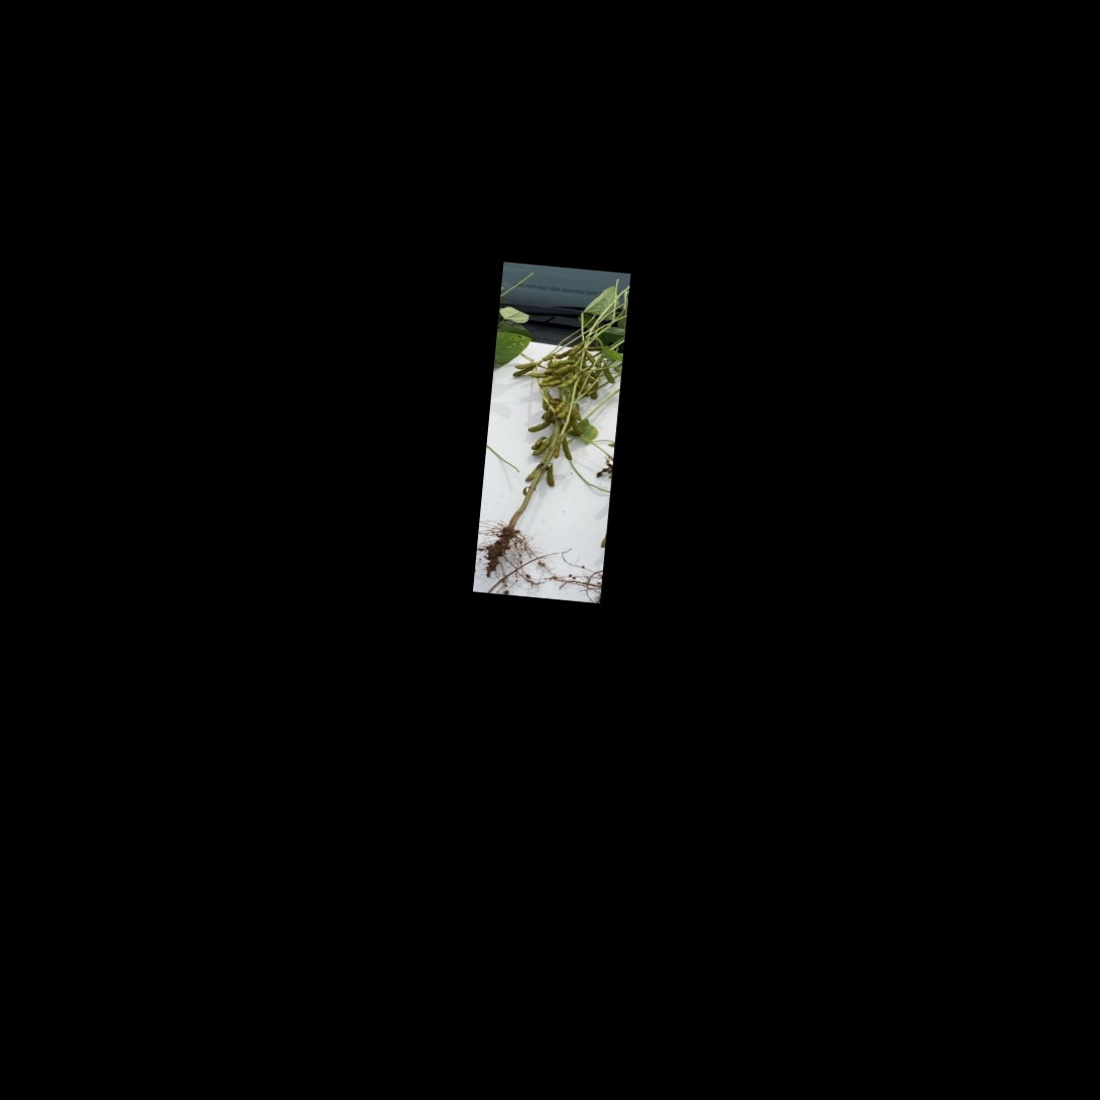pod: (522, 416, 555, 436), (530, 432, 553, 460), (555, 368, 581, 392), (509, 362, 539, 381), (597, 361, 618, 386), (566, 336, 586, 361), (559, 436, 576, 464), (567, 415, 585, 437), (544, 462, 558, 490), (512, 359, 539, 373), (550, 434, 564, 459)
soy: (477, 267, 629, 585)
